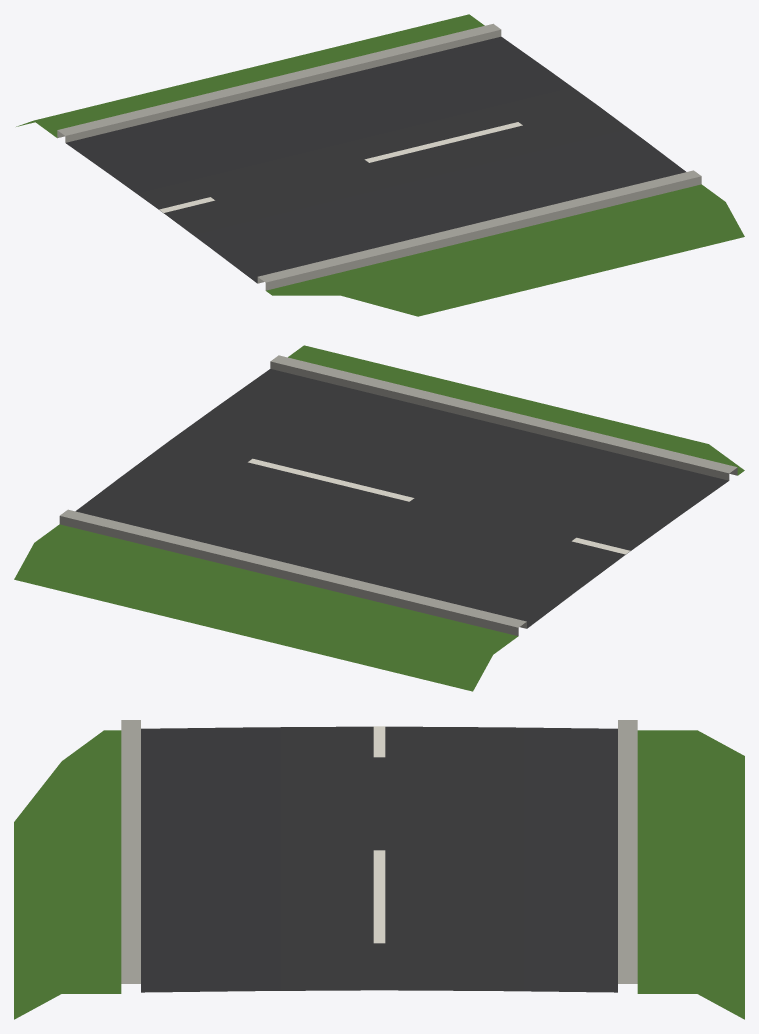
Rendered from road_bend_60_edge_e0.glb.
3 renders of one model, top to bottom at view 1: azimuth 30°, elevation 25°; view 2: azimuth 150°, elevation 25°; view 3: azimuth 270°, elevation 25°, orthographic. The views are drawn at different scales.
Visible parts, largest first — view 1: road_bend_60_edge_e0_lod0; view 2: road_bend_60_edge_e0_lod0; view 3: road_bend_60_edge_e0_lod0.
Part boxes in pixels (x1,y1,x2,y2): road_bend_60_edge_e0_lod0: (16, 14, 744, 316); road_bend_60_edge_e0_lod0: (14, 345, 744, 691); road_bend_60_edge_e0_lod0: (14, 720, 744, 1019).
Size of what is drawn, in the model's own units: 7.86 by 0.5 by 9.2.
